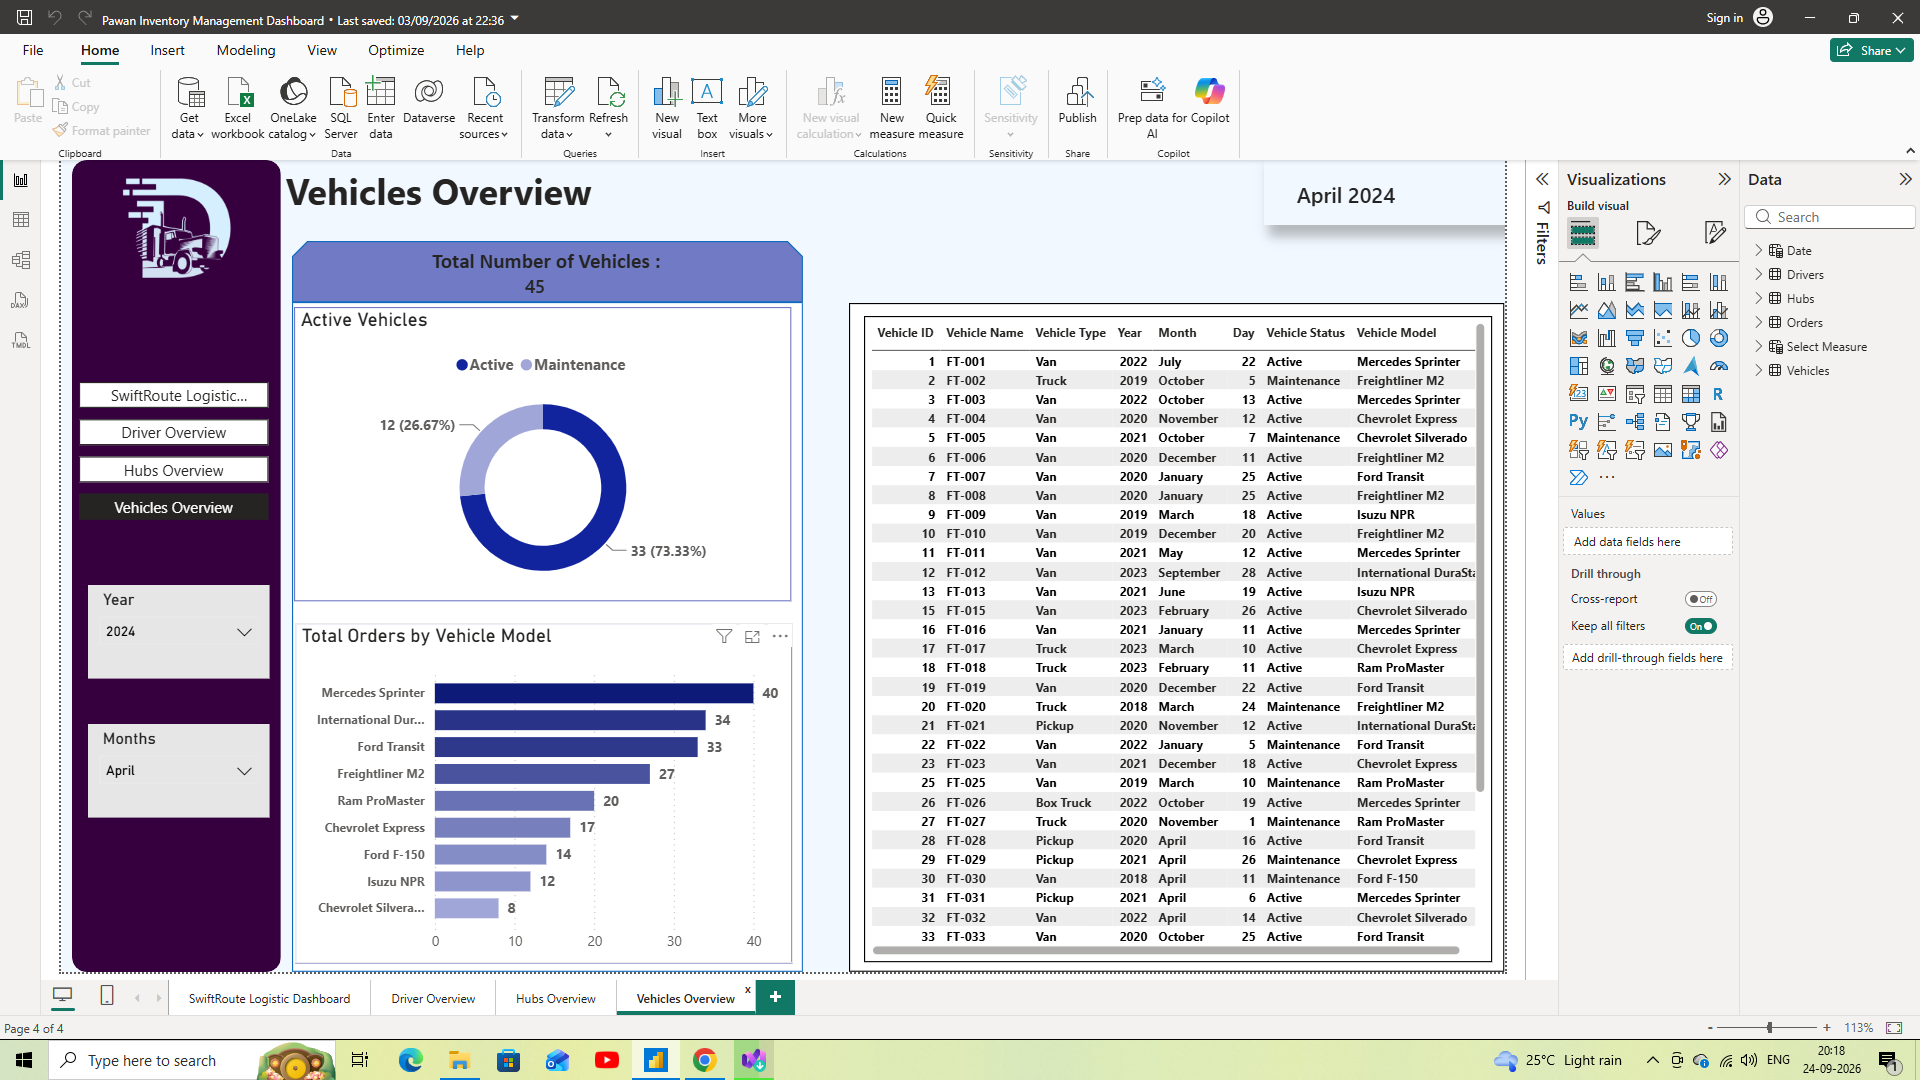

The dashboard page shown, as its layout file describes it:
{"tool":"powerbi","page":{"name":"Vehicles Overview","canvas":[1280,720],"ordinal":3},"visuals":[{"type":"shape","box":[9.8,0,185.3,720],"z":0},{"type":"textbox","box":[193.9,0,533.6,60.2],"z":1000},{"type":"slicer","fields":{"Values":["Date.Year"]},"box":[23.5,376.5,161.5,82.7],"z":2000},{"type":"slicer","fields":{"Values":["Date.Months"]},"box":[23.5,499.8,161.5,82.7],"z":3000},{"type":"image","box":[6.3,6.3,195.2,116.4],"z":4000},{"type":"shape","box":[204.4,126.2,453.1,594],"z":5000},{"type":"shape","box":[204.4,71.8,453.1,54.3],"z":6000},{"type":"textbox","box":[310.7,72.5,240,37.6],"z":7000},{"type":"cardVisual","fields":{"Data":["CountNonNull(Vehicles.Vehicle ID)"]},"box":[382.4,77.9,90.4,64.5],"z":8000},{"type":"donutChart","title":"Active Vehicles","fields":{"Category":["Vehicles.Vehicle Status"],"Y":["CountNonNull(Vehicles.Vehicle ID)"]},"box":[206.9,130.7,441.5,261.5],"z":9000},{"type":"barChart","fields":{"Y":["Orders.Total Orders"],"Category":["Vehicles.Vehicle Model"]},"box":[207.8,410.1,441.5,301.8],"z":10000},{"type":"cardVisual","fields":{"Data":["Date.Year Month Title"]},"box":[1066.4,0,213.6,58.4],"z":11000},{"type":"pageNavigator","box":[16.1,197,168.4,123.6],"z":12000},{"type":"shape","box":[698.9,127.1,581.1,593],"z":13000},{"type":"tableEx","fields":{"Values":["Vehicles.Vehicle ID","Orders.Vehicle Name","Orders.Vehicle Type","Vehicles.Purchase Date.Variation.Date Hierarchy.Year","Vehicles.Purchase Date.Variation.Date Hierarchy.Month","Vehicles.Purchase Date.Variation.Date Hierarchy.Day","Vehicles.Vehicle Status","Vehicles.Vehicle Model"]},"box":[711.9,137.9,557,573.1],"z":14000}]}

Visuals, with their boxes on the page's 1280x720 design canvas (x1, y1, x2, y2). These are canvas units, not pixel positions in the 1920x1080 screenshot, which may show the page scaled, cropped or inside an application window:
shape: [x1=10, y1=0, x2=195, y2=720]
textbox: [x1=194, y1=0, x2=728, y2=60]
slicer - Date.Year: [x1=24, y1=376, x2=185, y2=459]
slicer - Date.Months: [x1=24, y1=500, x2=185, y2=582]
image: [x1=6, y1=6, x2=202, y2=123]
shape: [x1=204, y1=126, x2=658, y2=720]
shape: [x1=204, y1=72, x2=658, y2=126]
textbox: [x1=311, y1=72, x2=551, y2=110]
cardVisual - CountNonNull(Vehicles.Vehicle ID): [x1=382, y1=78, x2=473, y2=142]
"Active Vehicles" donutChart: [x1=207, y1=131, x2=648, y2=392]
barChart - Orders.Total Orders x Vehicles.Vehicle Model: [x1=208, y1=410, x2=649, y2=712]
cardVisual - Date.Year Month Title: [x1=1066, y1=0, x2=1280, y2=58]
pageNavigator: [x1=16, y1=197, x2=184, y2=321]
shape: [x1=699, y1=127, x2=1280, y2=720]
tableEx - Vehicles.Vehicle ID x Orders.Vehicle Name: [x1=712, y1=138, x2=1269, y2=711]
